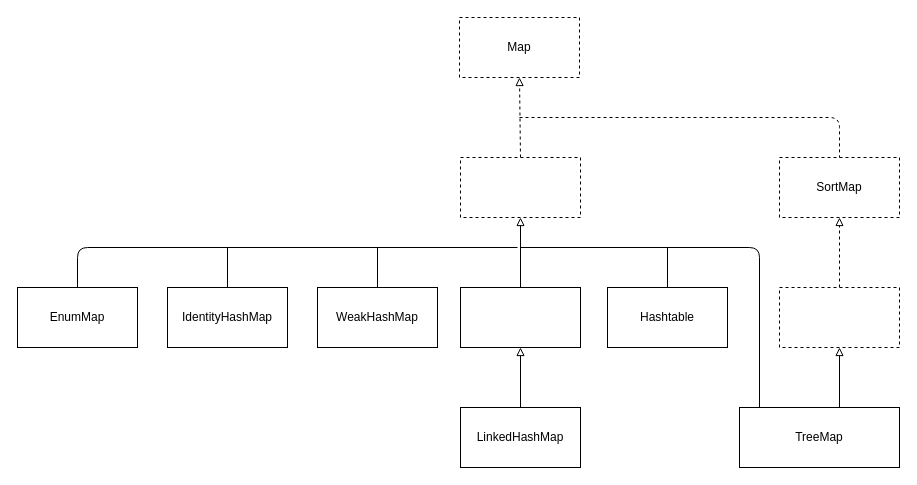
The diagram is 917 pixels wide and 485 high, and some of its shapes have lost their labels. The centre of each missing label's shape, as x and y in pixels:
"AbstractMap" goes at (x=520, y=187).
"HashMap" goes at (x=520, y=317).
"NavigableMap" goes at (x=839, y=317).
